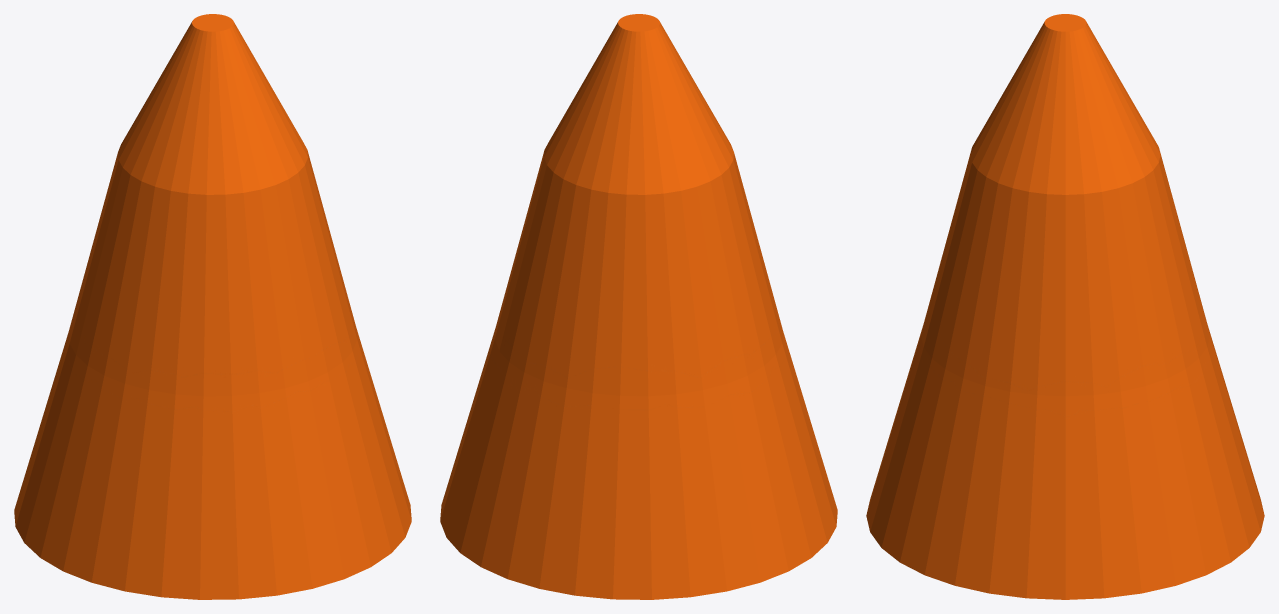
File: tapones oidos.fbx
3 views of the same model, side by side, from view 1: azimuth 30°, elevation 25°; view 2: azimuth 150°, elevation 25°; view 3: azimuth 270°, elevation 25° (orthographic).
Parts seen in each view (by area): view 1: Cylinder.001; view 2: Cylinder.001; view 3: Cylinder.001.
Part boxes in pixels (<box>): Cylinder.001: <box>14,14,411,599</box>; Cylinder.001: <box>440,14,837,599</box>; Cylinder.001: <box>866,14,1264,599</box>.
Size of the model in its own units: 11.44 by 15.61 by 11.44.
1 material, 1 textured.
